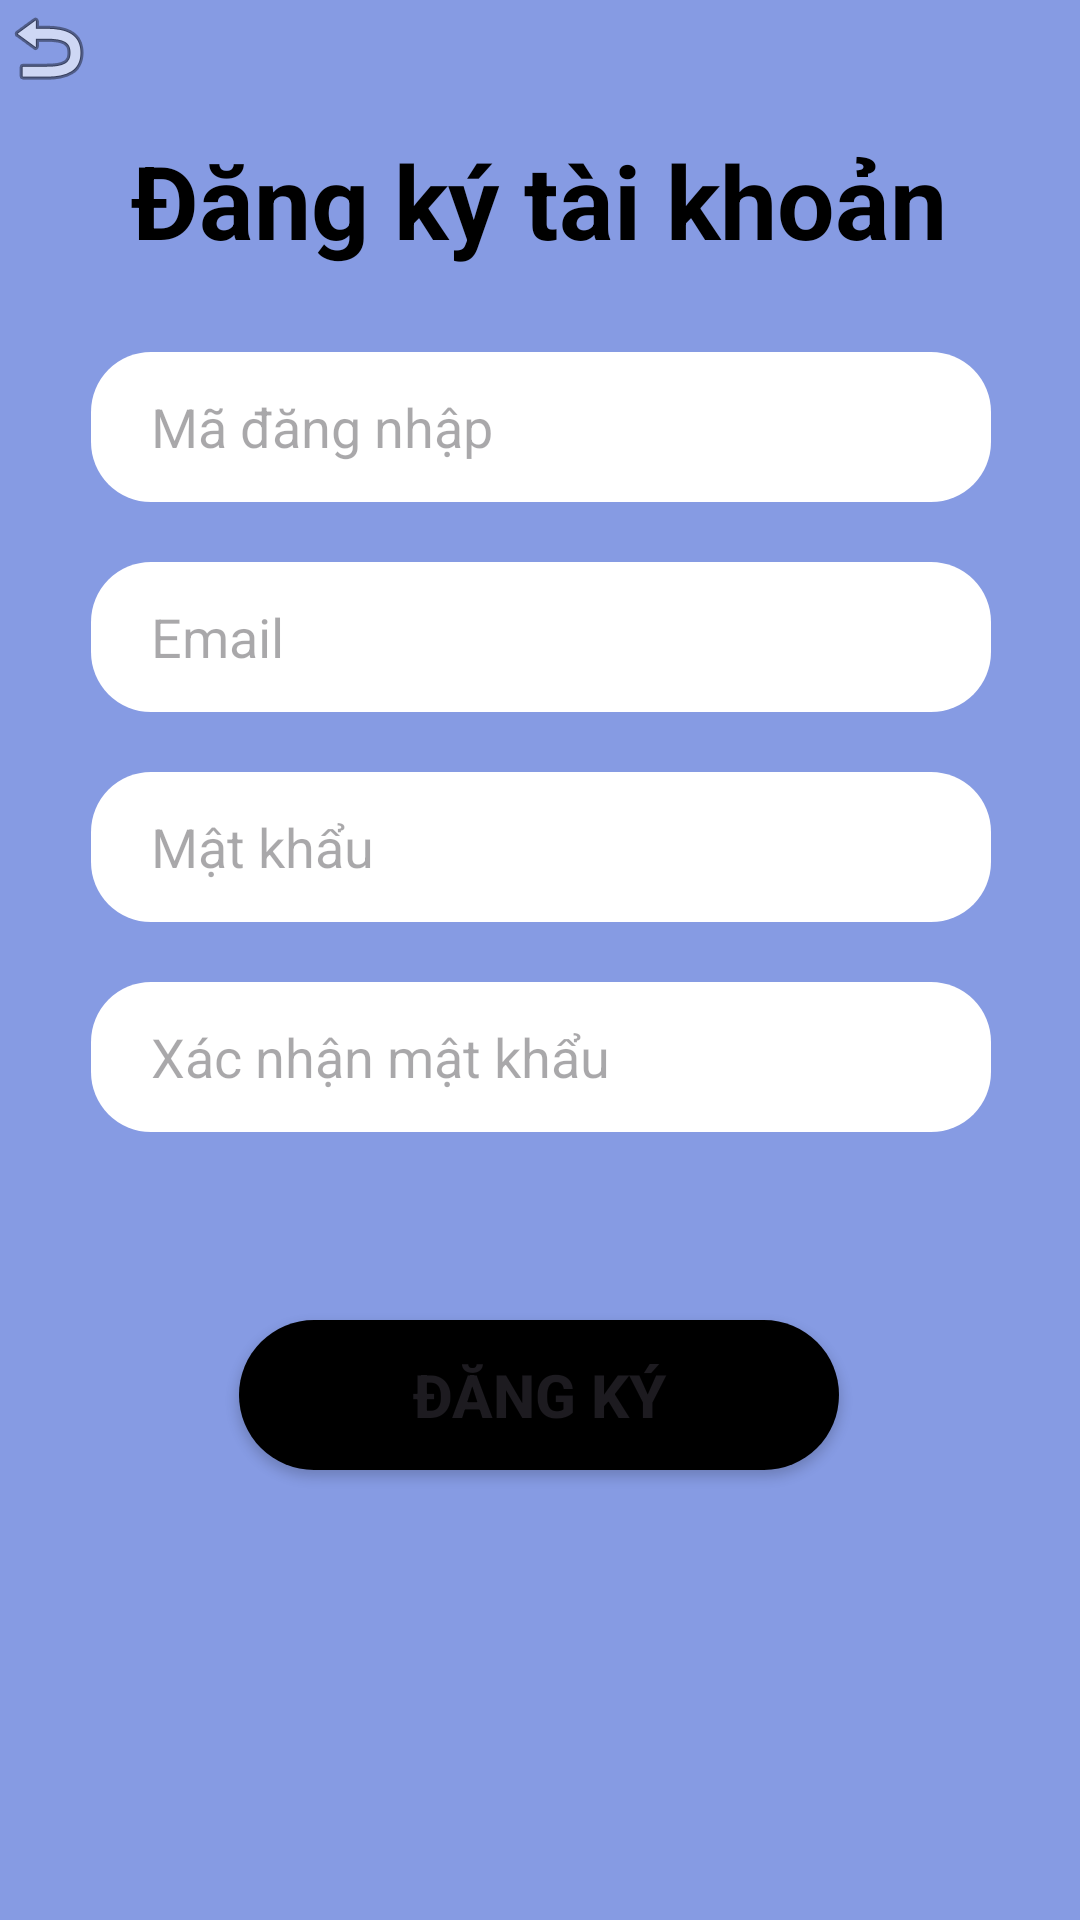

Icon bounding boxes for this 1080×1920 phone screenshot, format [left=x1, top=y1, right=x2, bottom=y2]:
revert: [left=15, top=17, right=84, bottom=80]
